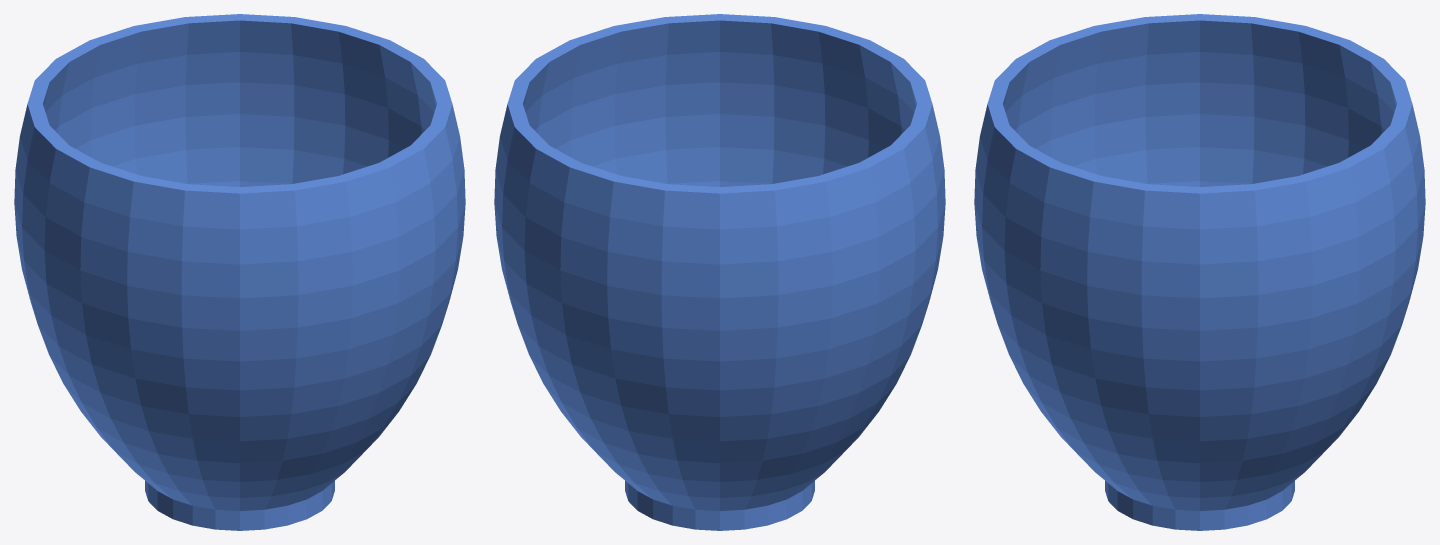
The picture shows the model from 3 angles, left to right: view 1: azimuth 30°, elevation 25°; view 2: azimuth 150°, elevation 25°; view 3: azimuth 270°, elevation 25°; orthographic projection.
Bounding box in the file's own units: 0.5877 × 0.5561 × 0.5877.
